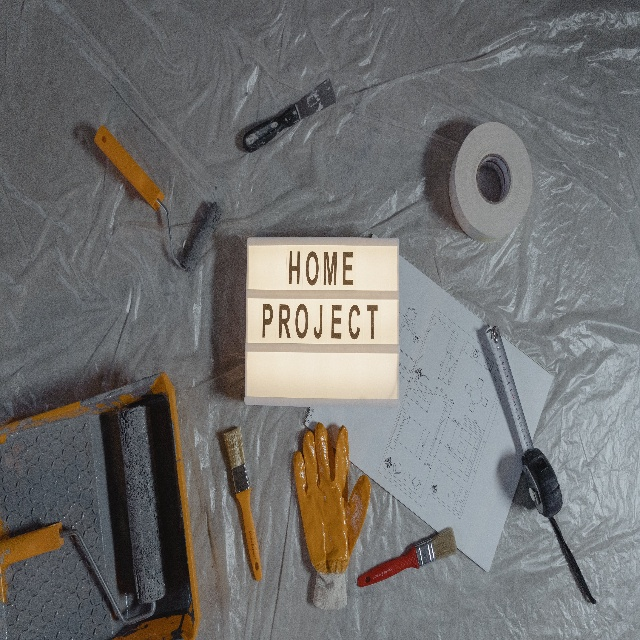Guantes: (293, 421, 371, 611)
